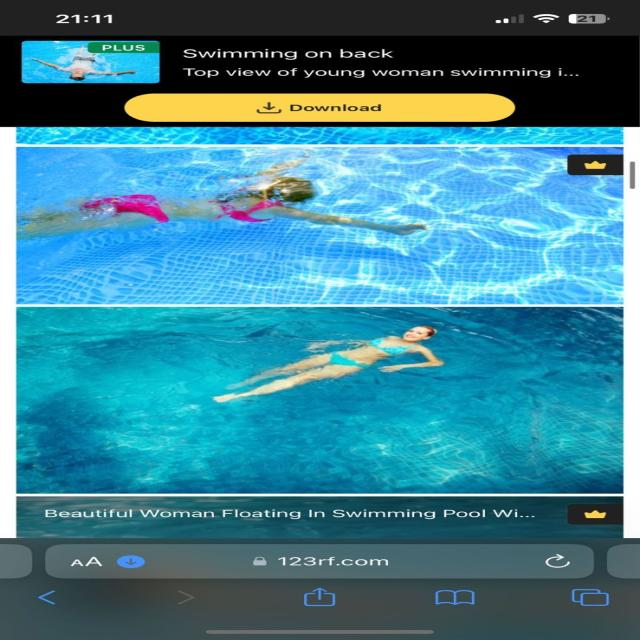Swimming: (21, 174, 431, 241), (218, 326, 449, 394)
